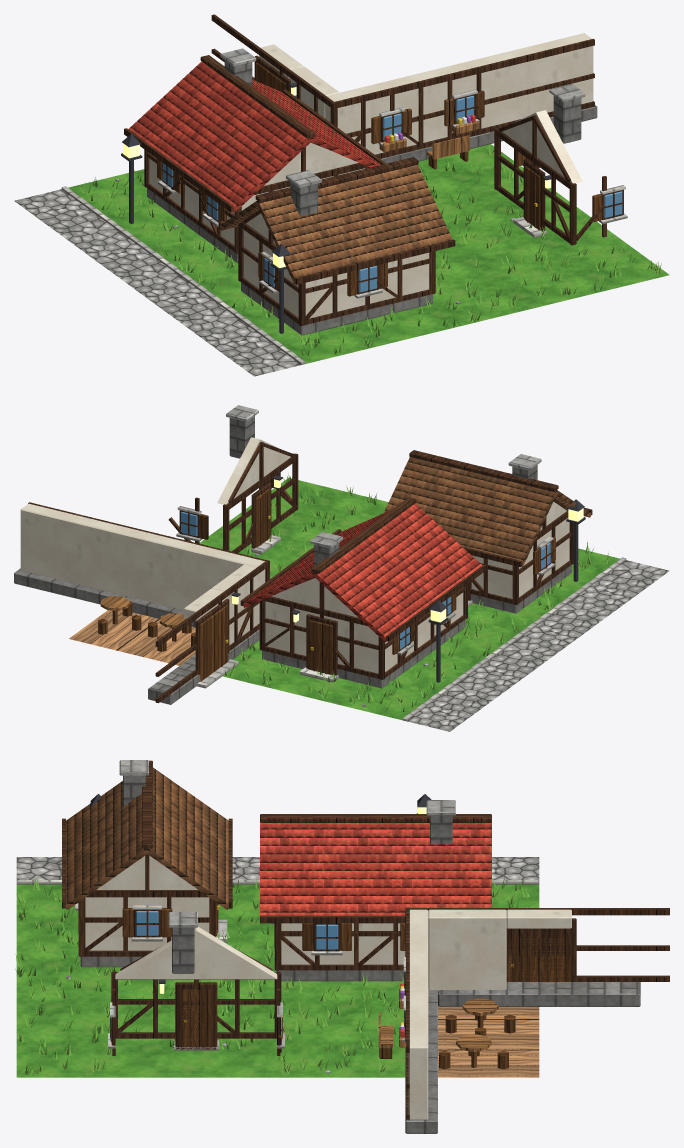
The model's file is chunk_6_6.glb.
3 renders of one model, top to bottom at view 1: azimuth 30°, elevation 25°; view 2: azimuth 150°, elevation 25°; view 3: azimuth 270°, elevation 25°, orthographic. The views are drawn at different scales.
Visible parts, largest first — view 1: chunk_6_6; view 2: chunk_6_6; view 3: chunk_6_6.
Part boxes in pixels (box(x1,y1,x2,y2)): chunk_6_6: box(14, 14, 669, 376); chunk_6_6: box(14, 405, 669, 731); chunk_6_6: box(15, 760, 669, 1133).
Size of the model in its own units: 20.1 by 4.99 by 20.08.
Materials: 21 (12 with a texture image).
